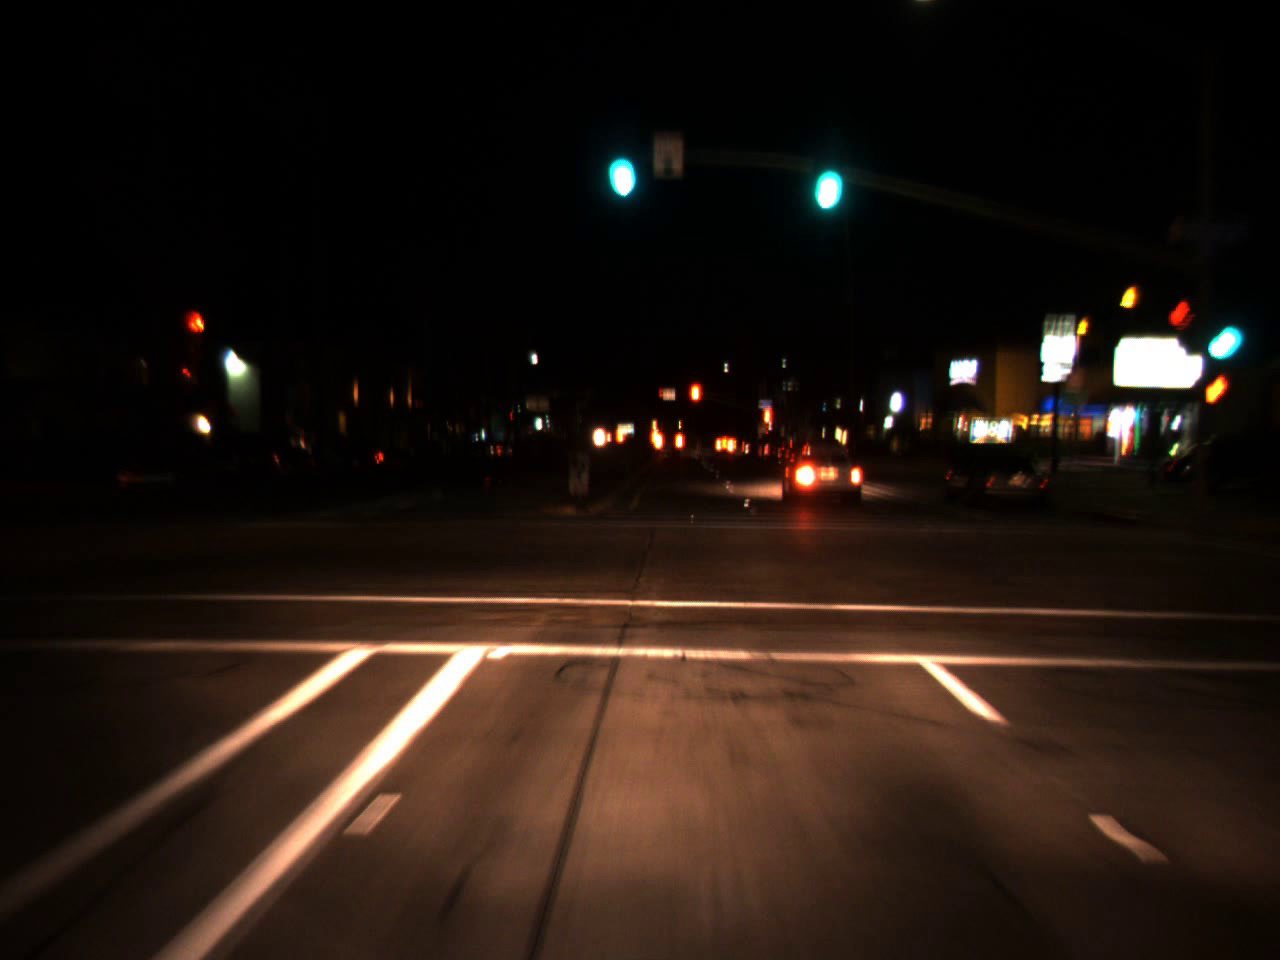go: (802, 134, 848, 221), (597, 127, 642, 205), (1200, 298, 1241, 367)
stop: (687, 379, 703, 424), (762, 403, 774, 451)
